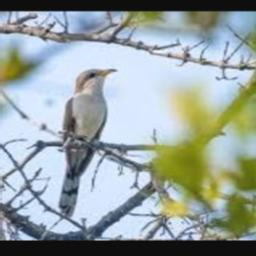Cuckoo: (58, 67, 118, 218)
